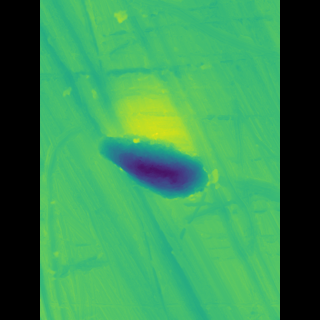Loch: (76, 0, 197, 127), (111, 130, 206, 206)
